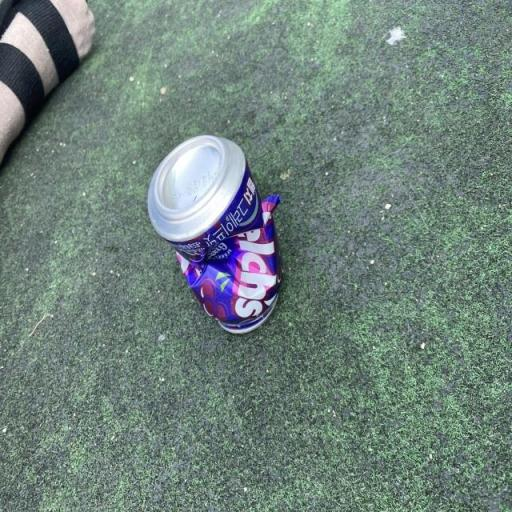metal: (130, 118, 296, 348)
